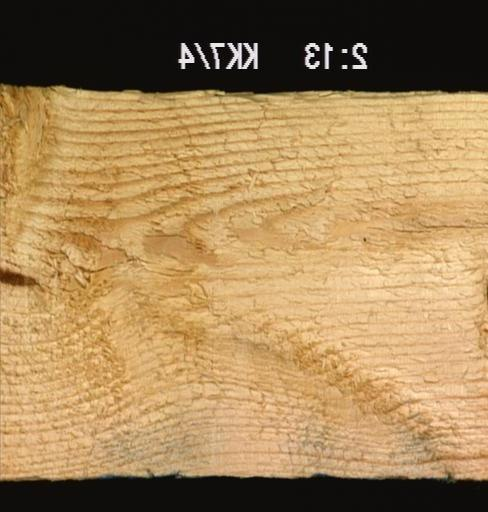split: (354, 220, 486, 243)
